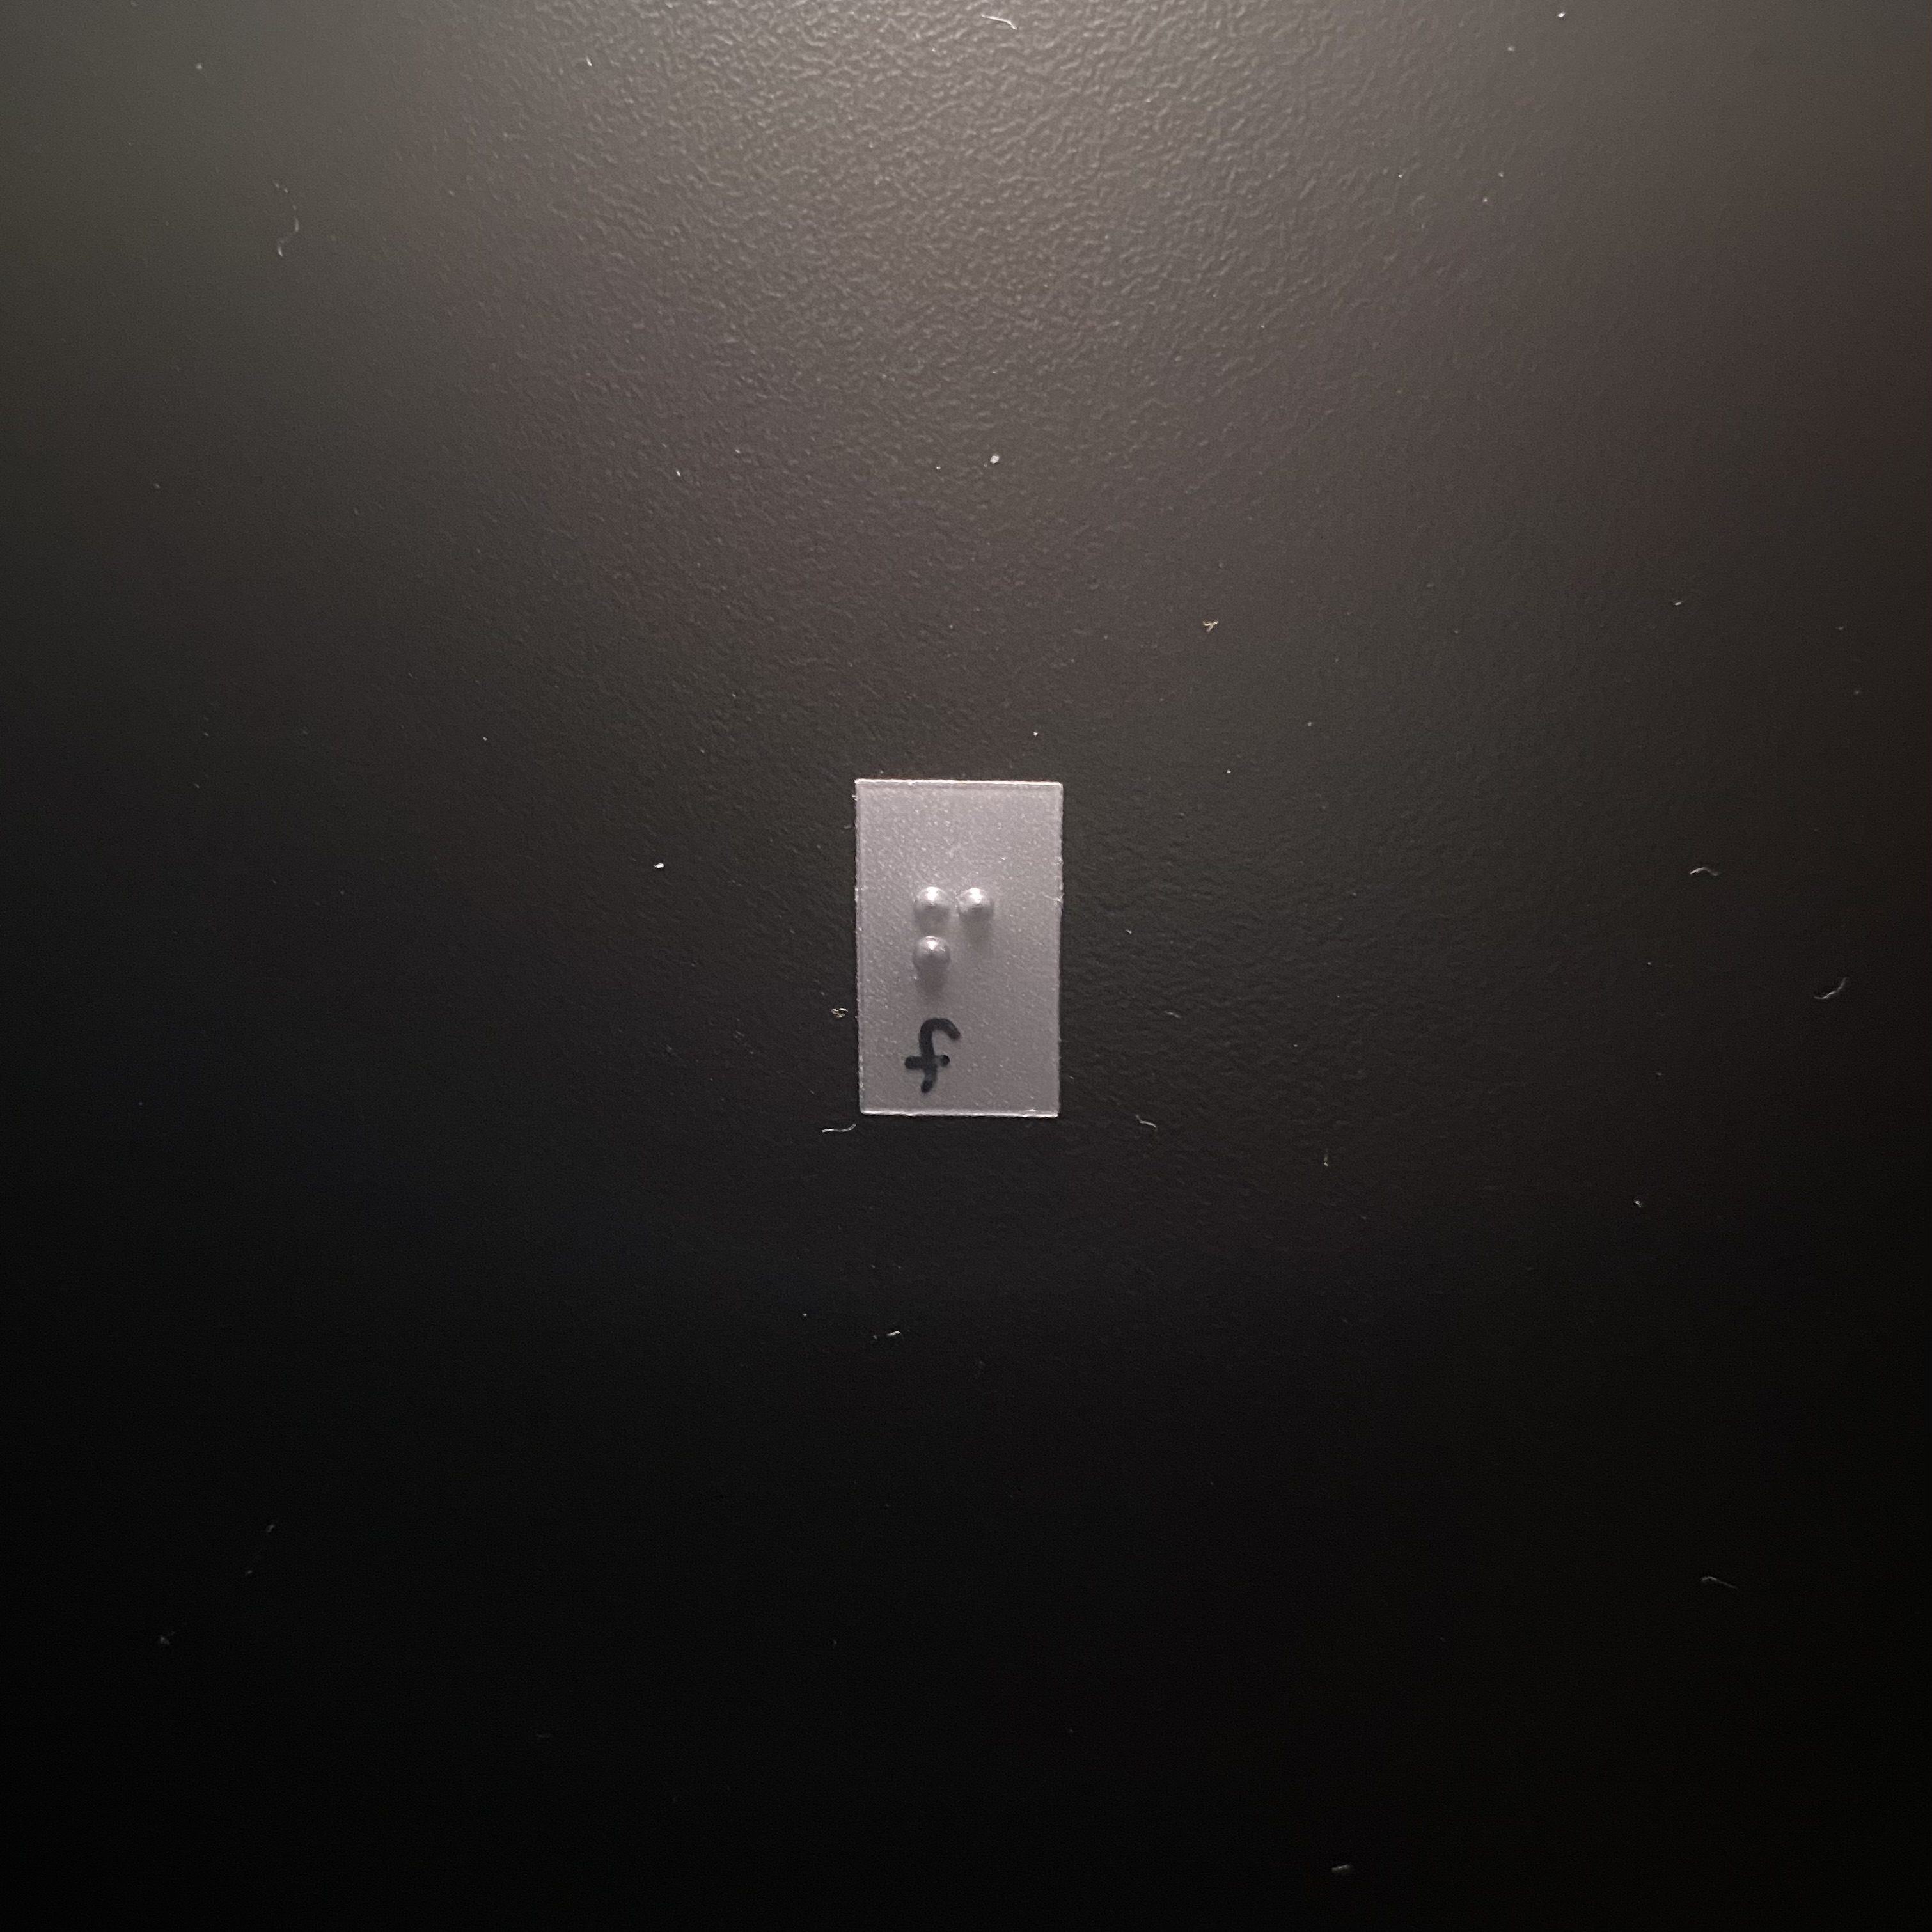f: (900, 863, 1014, 1059)
